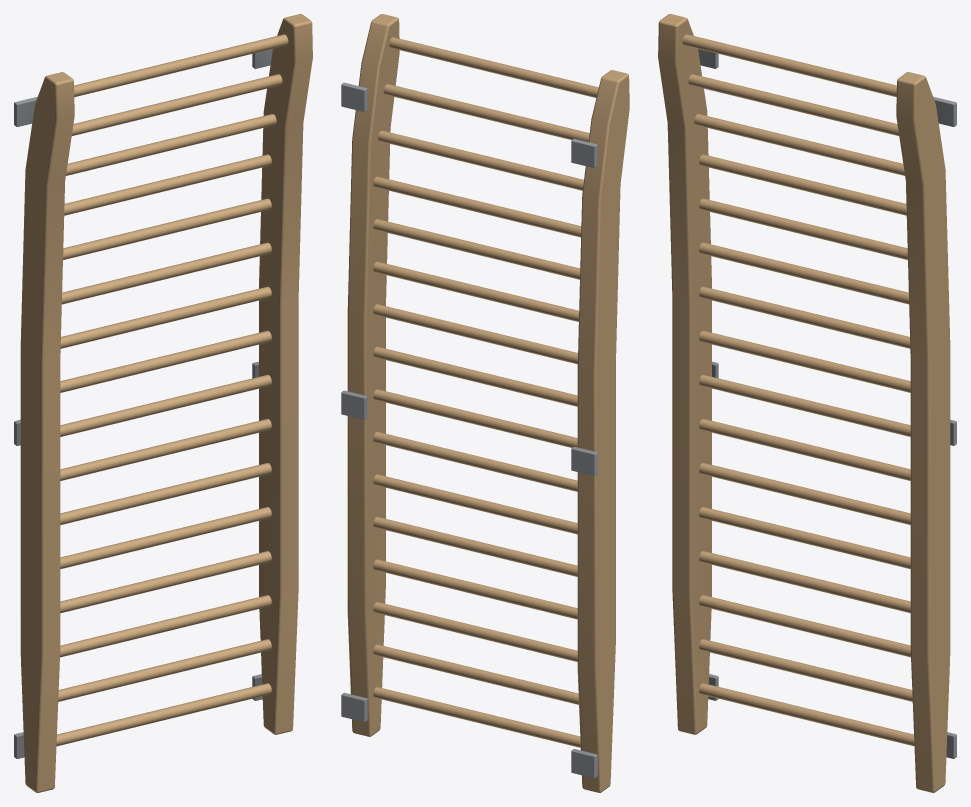
File: wallBars.glb
3 renders of one model, left to right at view 1: azimuth 30°, elevation 25°; view 2: azimuth 150°, elevation 25°; view 3: azimuth 330°, elevation 25°, orthographic. The views are drawn at different scales.
Visible parts, largest first — view 1: bars; view 2: bars; view 3: bars.
Boxes of the visible parts, <box> form: bars: <box>14,14,312,792</box>; bars: <box>341,14,629,792</box>; bars: <box>658,14,956,792</box>.
Bounding box in the file's own units: 0.95 × 2.5 × 0.25.
